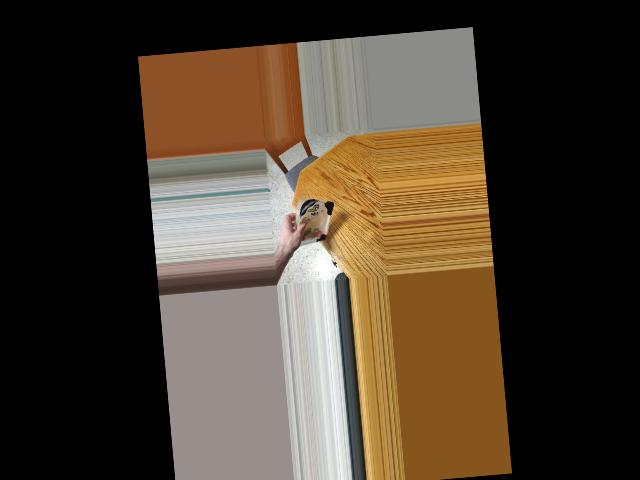cheese: (293, 193, 332, 248)
